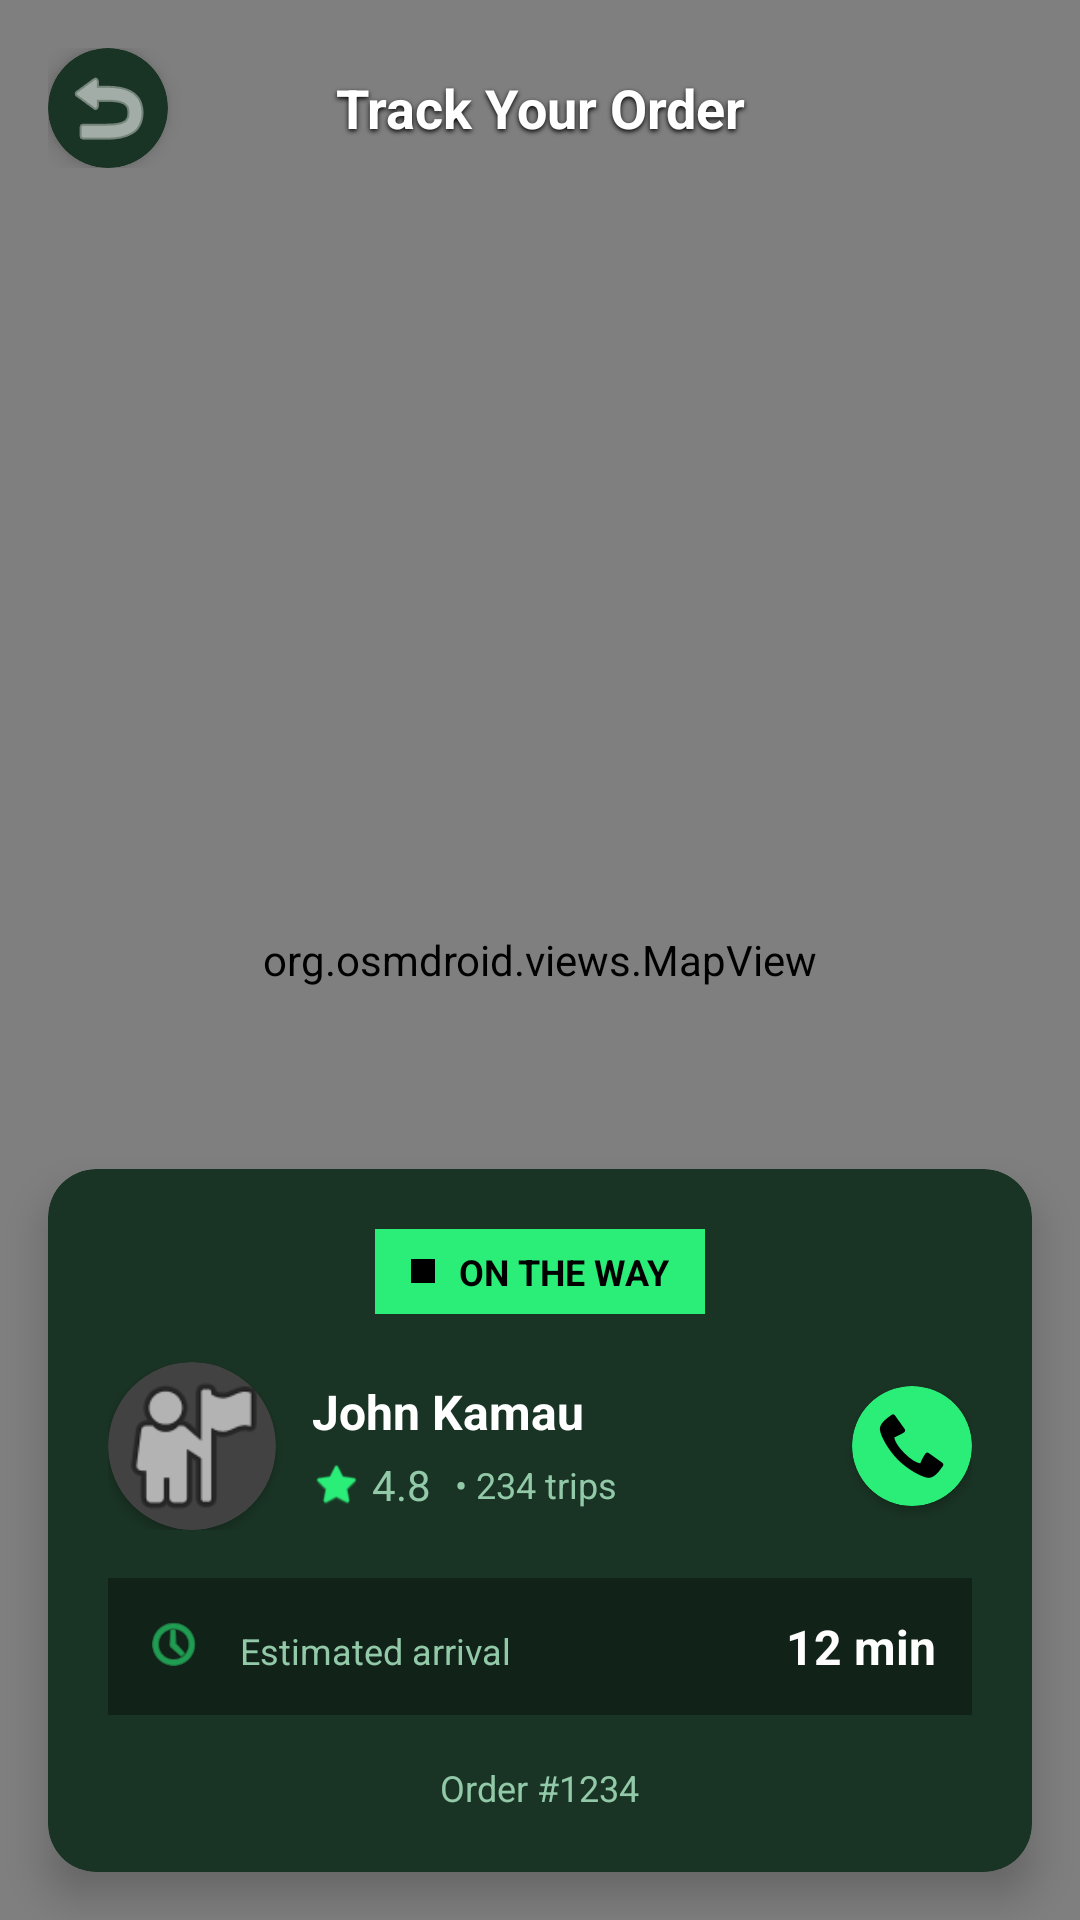

Screen size 1080w x 1920h. Icon name, then its center in pixels as [x,y]:
myplaces: [192,1446]
phone call: [912,1446]
recent history: [173,1644]
revert: [108,108]
star on: [336,1484]
